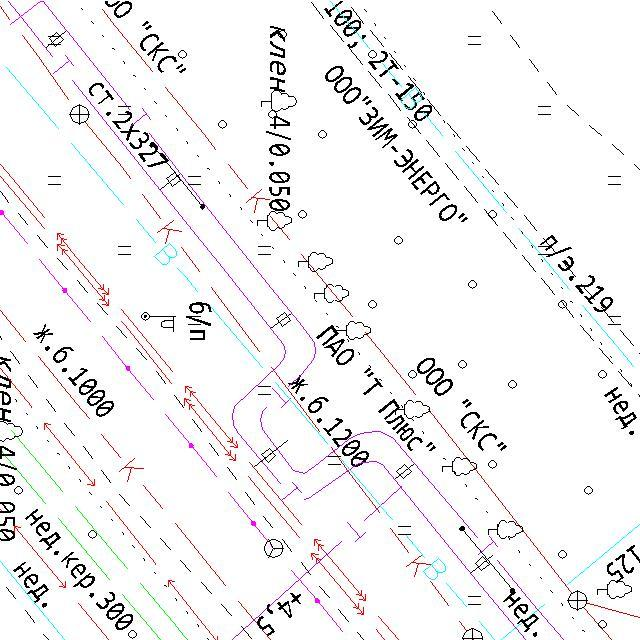tree: (260, 89, 298, 114), (332, 319, 373, 342), (440, 454, 479, 478), (312, 282, 351, 305), (487, 518, 524, 541), (256, 210, 294, 232), (296, 251, 334, 273), (394, 398, 432, 420), (596, 579, 634, 600)
well: (67, 101, 92, 127), (565, 588, 590, 613), (262, 537, 286, 560)
